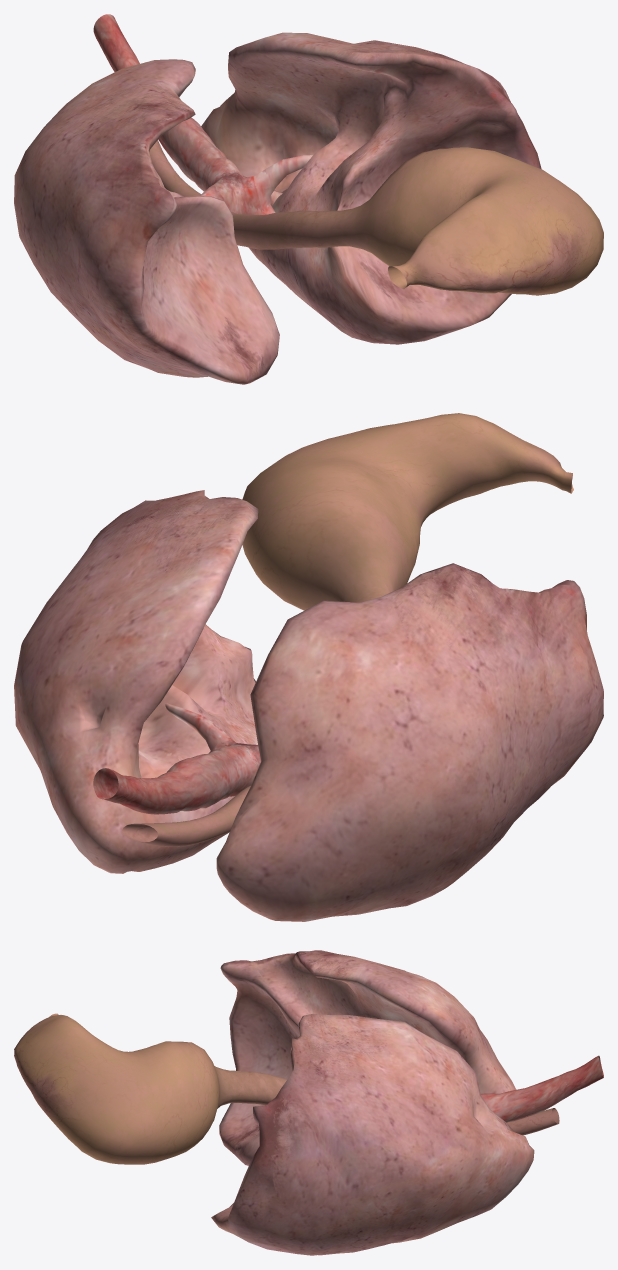
Rendered from System.fbx.
3 views of the same model, one above another, from view 1: azimuth 30°, elevation 25°; view 2: azimuth 150°, elevation 25°; view 3: azimuth 270°, elevation 25° (orthographic). The views are drawn at different scales.
Visible parts, largest first — view 1: Systems; view 2: Systems; view 3: Systems.
Boxes of the visible parts, x1=… form: Systems: x1=14, y1=14, x2=603, y2=384; Systems: x1=14, y1=413, x2=603, y2=921; Systems: x1=14, y1=950, x2=603, y2=1255.
Bounding box in the file's own units: 24.73 × 15.69 × 37.42.
